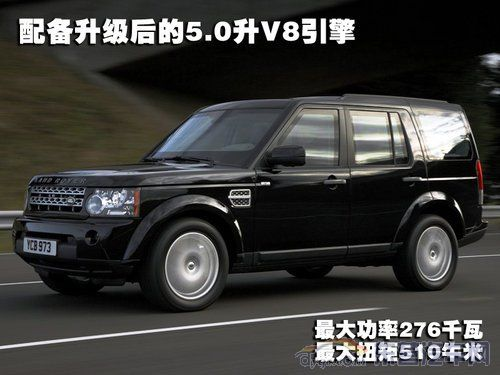front_view: (0, 90, 309, 218)
headlight: (182, 88, 305, 143)
side_glass: (312, 6, 362, 66)
